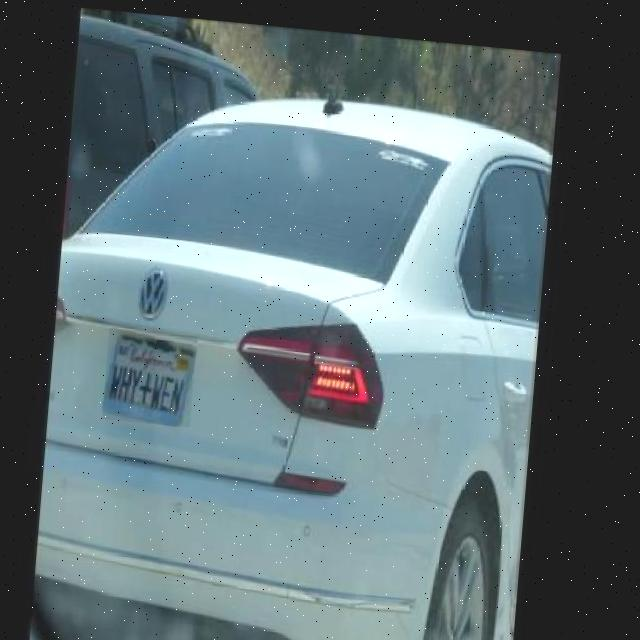LicensePlate: (109, 325, 203, 423)
